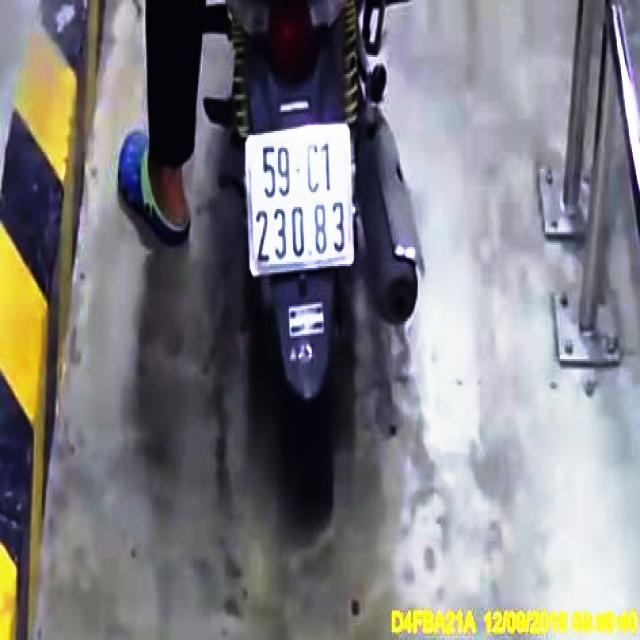license_plate: (250, 126, 352, 273)
